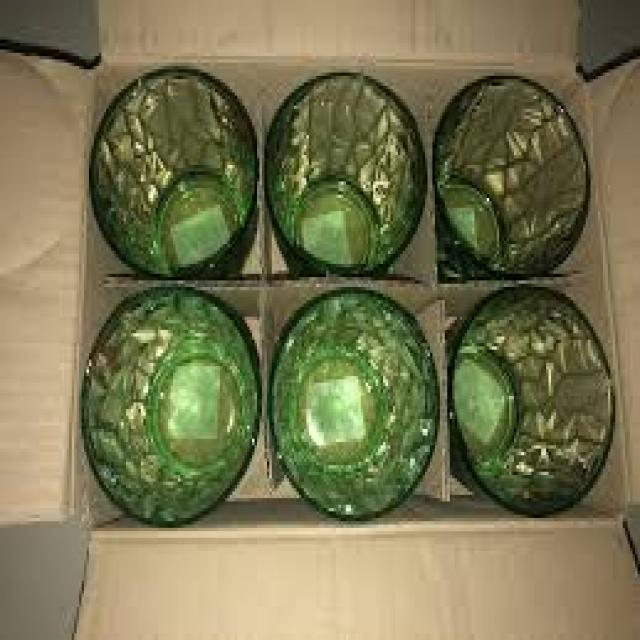cardboard: (67, 521, 638, 637), (0, 46, 77, 515), (96, 0, 575, 59), (588, 40, 638, 521)
glass: (79, 284, 260, 525), (267, 287, 440, 518), (450, 284, 613, 515), (84, 63, 255, 271), (259, 70, 425, 271), (430, 69, 588, 277)
